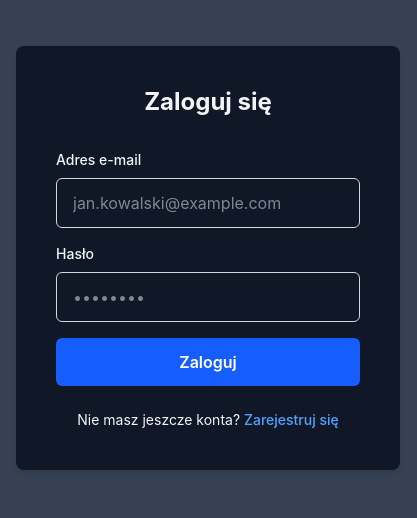
LoginForm › handles GraphQL network error
The width and height of the screenshot is (417, 518).
In the field labelled "Adres e-mail": coordinates (208, 203) top-left (56, 178), bottom-right (360, 228), type "test@example.com"
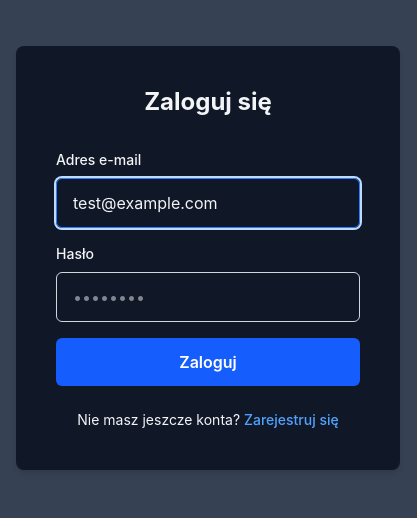
In the password field labelled "Hasło": coordinates (208, 297) top-left (56, 272), bottom-right (360, 322), type "password"
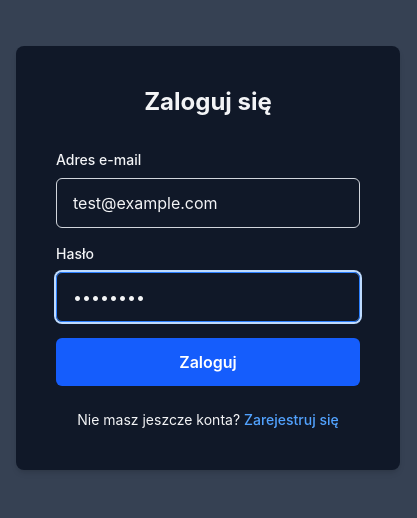
Click the button "Zaloguj": coordinates (208, 362) top-left (56, 338), bottom-right (360, 386)
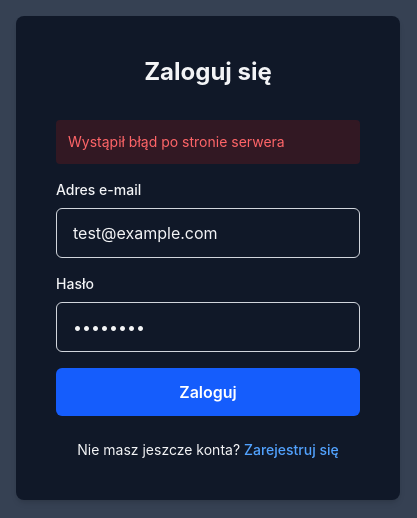
Expected: the text "Wystąpił błąd po stronie serwera" is shown, top-left (56, 120), bottom-right (360, 164)
